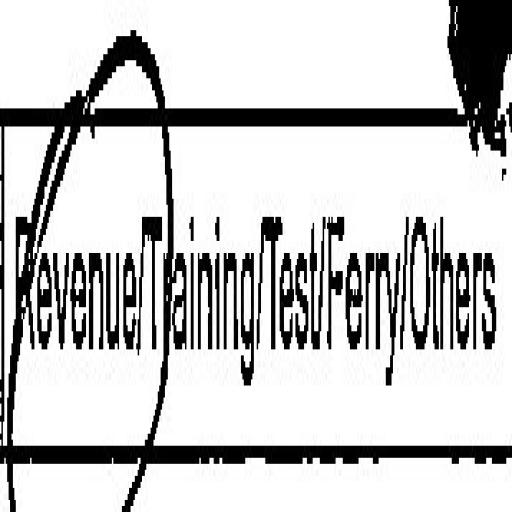check: (2, 0, 144, 512)
